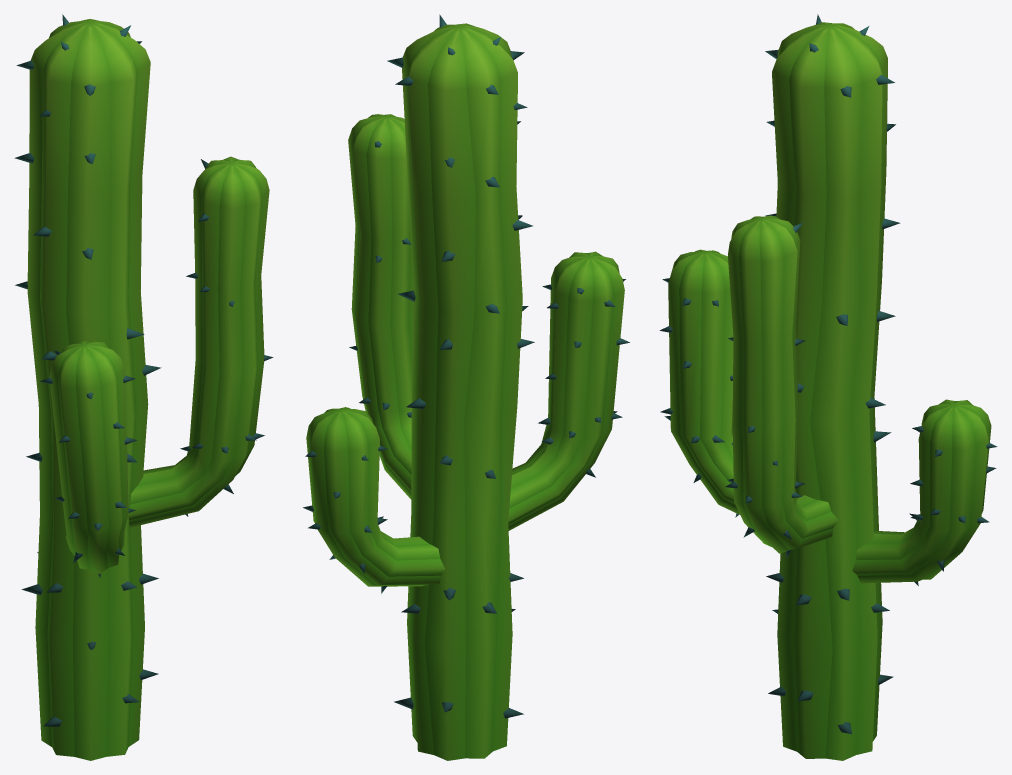
The model's file is Cactus2.fbx.
The picture shows the model from 3 angles, left to right: view 1: azimuth 30°, elevation 25°; view 2: azimuth 150°, elevation 25°; view 3: azimuth 270°, elevation 25°; orthographic projection.
Visible parts, largest first — view 1: pasted__Circle.025; view 2: pasted__Circle.025; view 3: pasted__Circle.025.
Boxes of the visible parts, box(x1,y1,x2,y2) form: pasted__Circle.025: box(14, 14, 273, 760); pasted__Circle.025: box(303, 14, 629, 760); pasted__Circle.025: box(659, 14, 997, 760).
Size of the model in its own units: 86.47 by 241 by 103.
